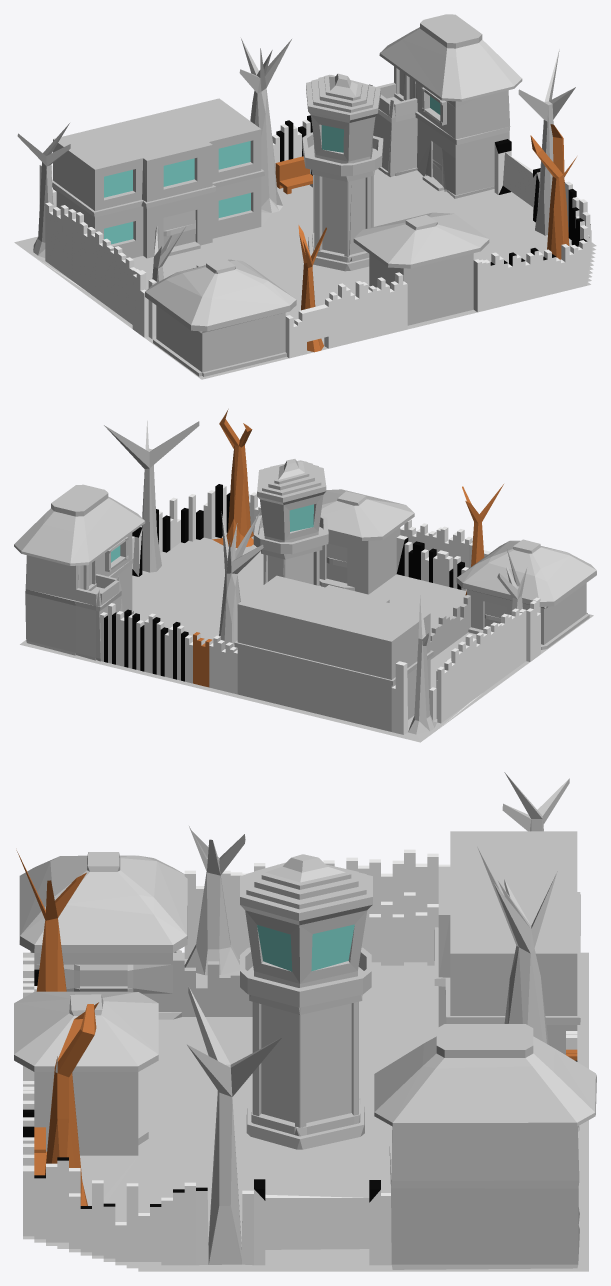
Rendered from wood.fbx.
The picture shows the model from 3 angles, top to bottom: view 1: azimuth 30°, elevation 25°; view 2: azimuth 150°, elevation 25°; view 3: azimuth 270°, elevation 25°; orthographic projection. The views are drawn at different scales.
Parts seen in each view (by area): view 1: Grid; view 2: Grid; view 3: Grid.
Part boxes in pixels (x1,y1,x2,y2): Grid: (14, 14, 596, 379); Grid: (14, 409, 596, 742); Grid: (14, 772, 596, 1271).
Size of the model in its own units: 416 by 156 by 309.
